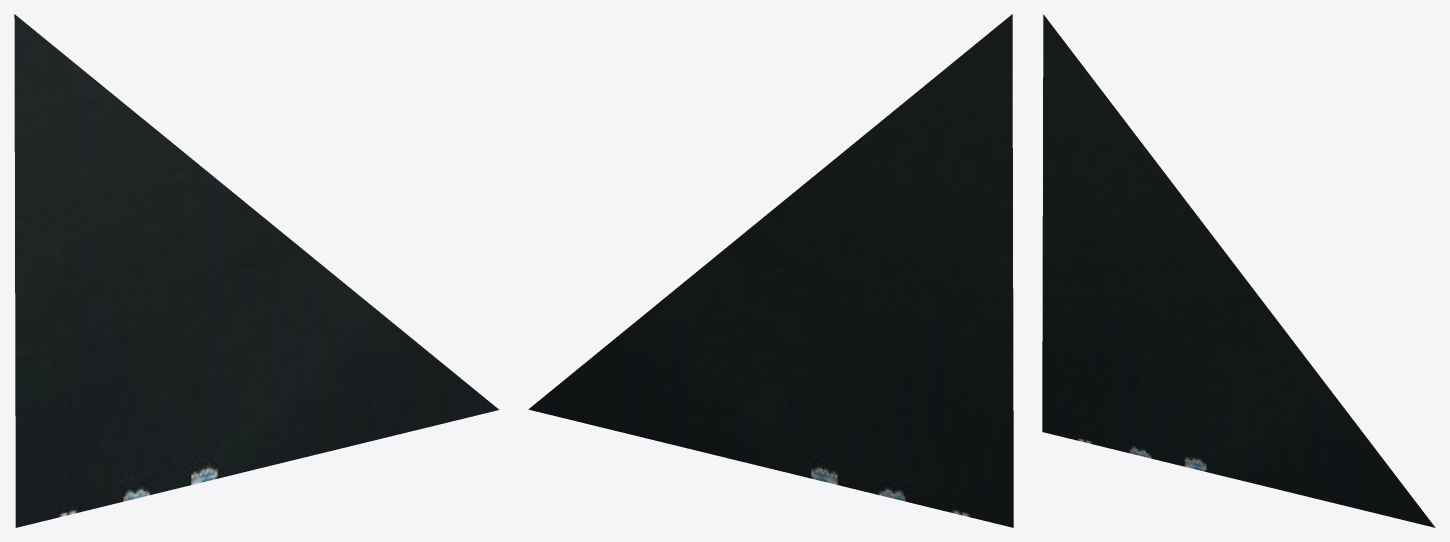
3 views of the same model, side by side, from view 1: azimuth 30°, elevation 25°; view 2: azimuth 150°, elevation 25°; view 3: azimuth 330°, elevation 25° (orthographic). The views are drawn at different scales.
Parts seen in each view (by area): view 1: 0_2_1_1_1_2; view 2: 0_2_1_1_1_2; view 3: 0_2_1_1_1_2.
Part boxes in pixels (x1=…): 0_2_1_1_1_2: x1=14, y1=14, x2=498, y2=527; 0_2_1_1_1_2: x1=528, y1=14, x2=1013, y2=527; 0_2_1_1_1_2: x1=1042, y1=14, x2=1435, y2=527.
Bounding box in the file's own units: 126 × 127 × 0.5902.
1 material, 1 textured.
